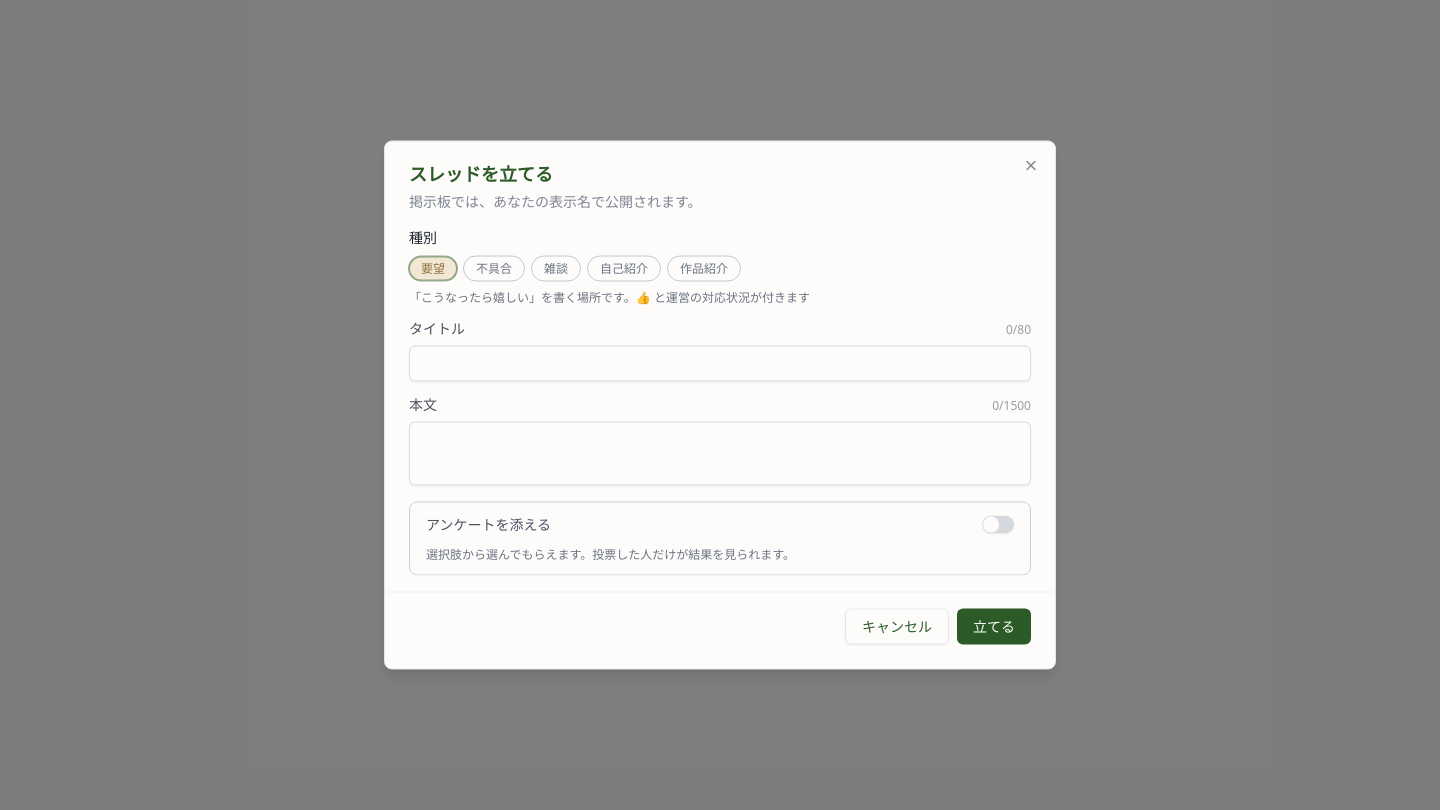
Test case: NewThreadDialog — 種別（D-BOARD-KIND） › 要望・不具合では 👍 と対応状況が付くと言い、雑談では言わない
Expected: the text "「こうなったら嬉しい」を書く場所です。👍 と運営の対応状況が付きます" is shown, [409,288,810,306]
Click the button "不具合" at (494, 268), box [463,256,525,282]
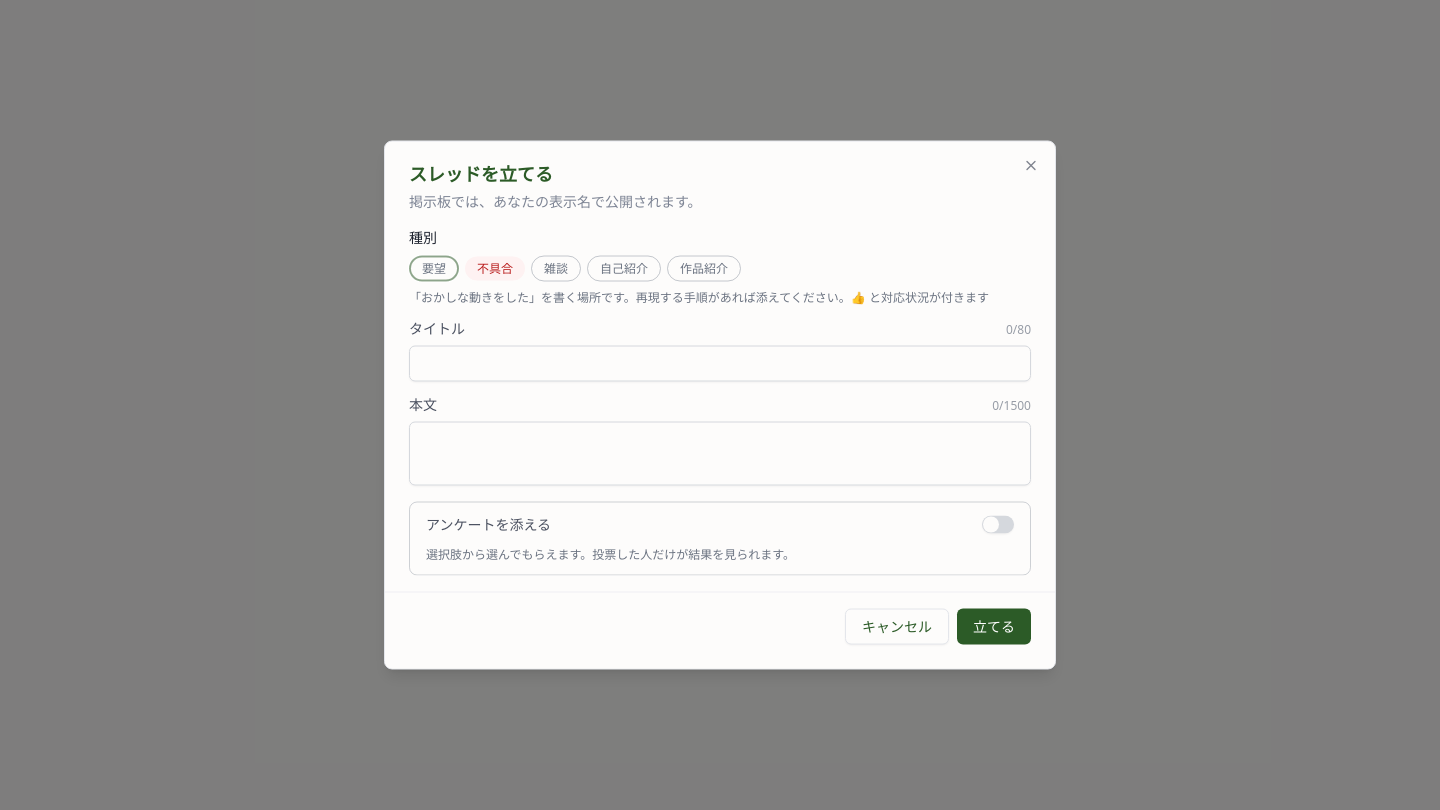
Expected: the text "「おかしな動きをした」を書く場所です。再現する手順があれば添えてください。👍 と対応状況が付きます" is shown, [409,290,1031,306]
Click the button "雑談" at (556, 268), box [531,256,581,282]
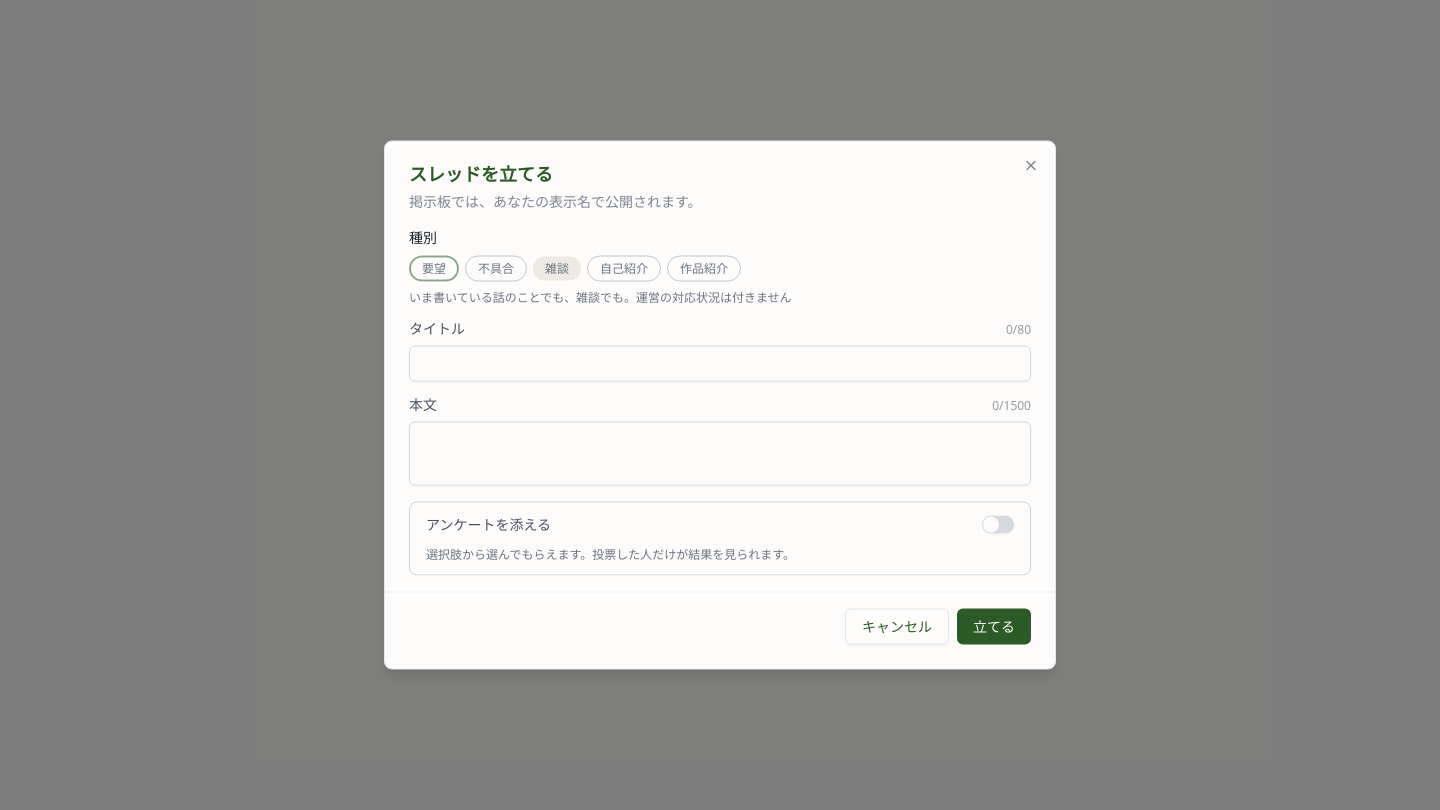
Now the text "いま書いている話のことでも、雑談でも。運営の対応状況は付きません" is shown, box [409,288,792,306]
